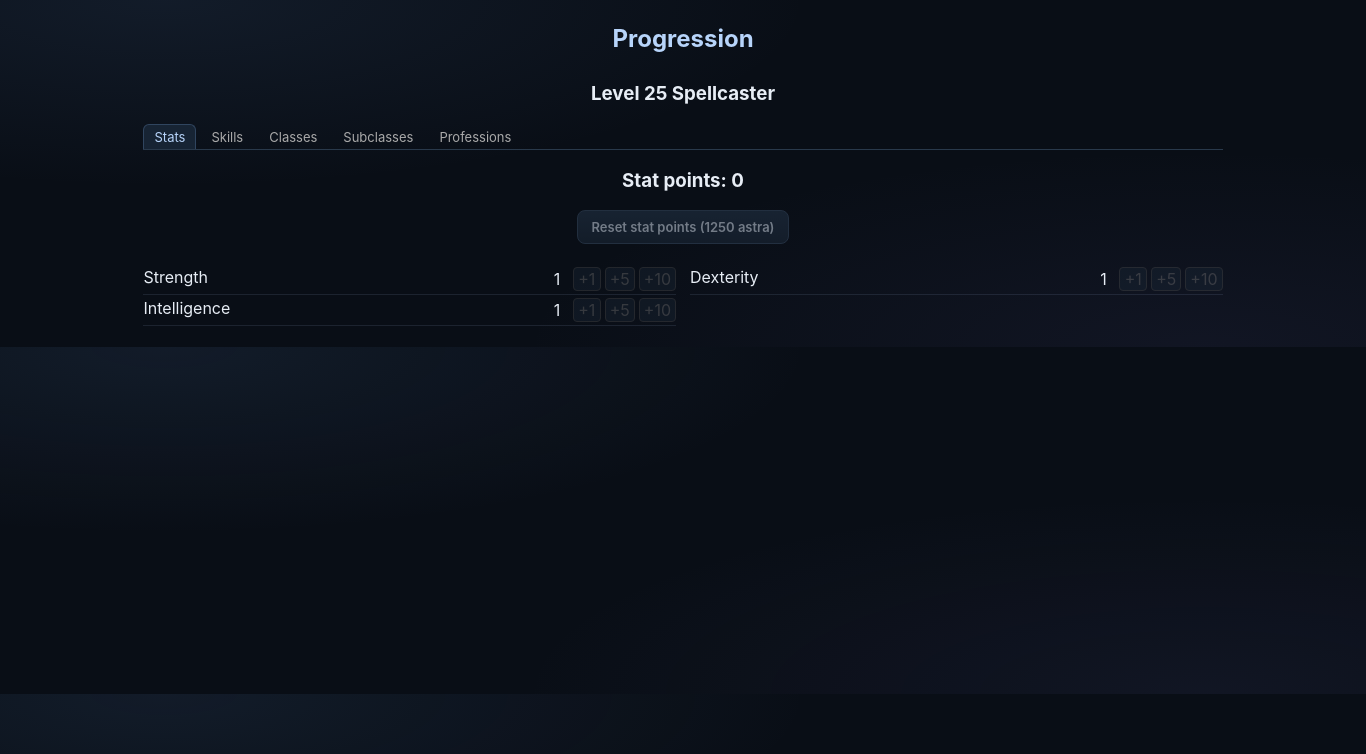
class descriptions expand on demand while the current class stays open
Click the tab "Classes": {"x": 293, "y": 136} left=258, top=124, right=328, bottom=149
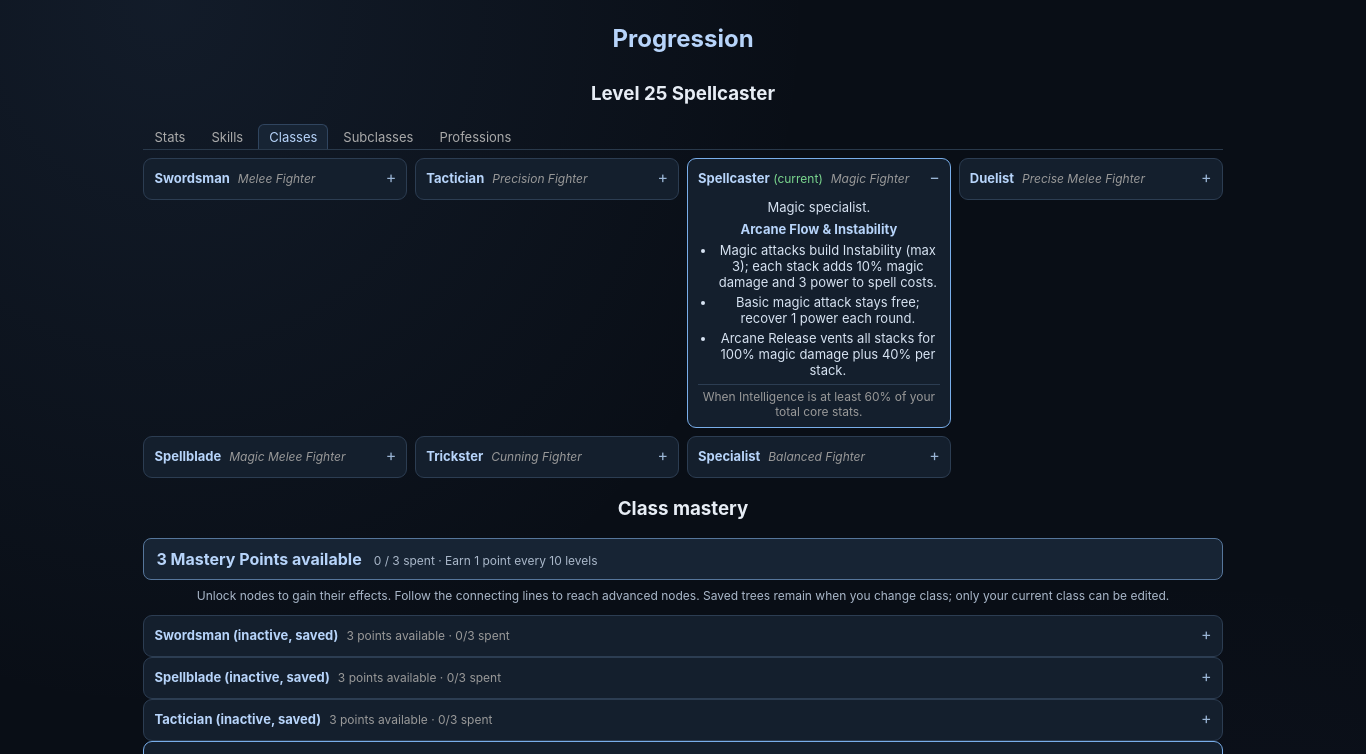
Click the heading "Tactician Precision Fighter": {"x": 507, "y": 178} left=426, top=170, right=588, bottom=186
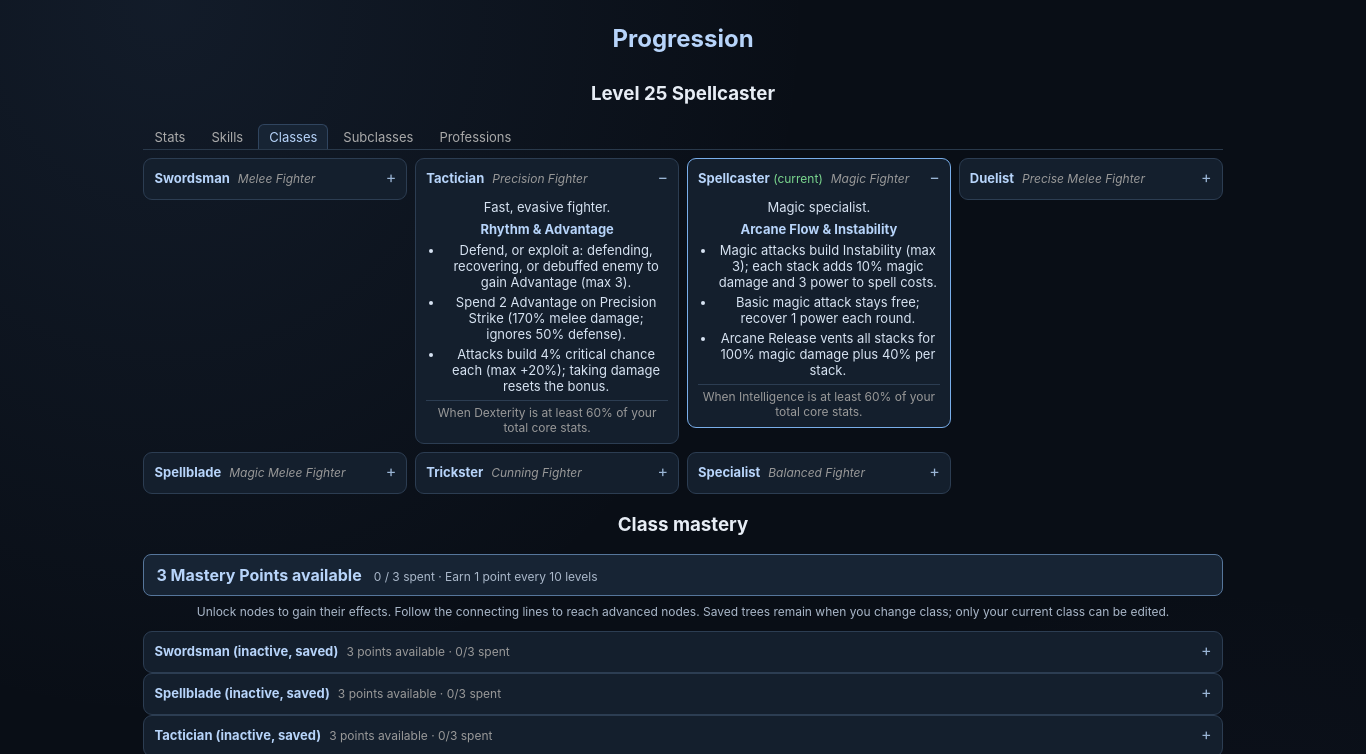
Expected: the text "Fast, evasive fighter." is shown, left=484, top=199, right=610, bottom=215
